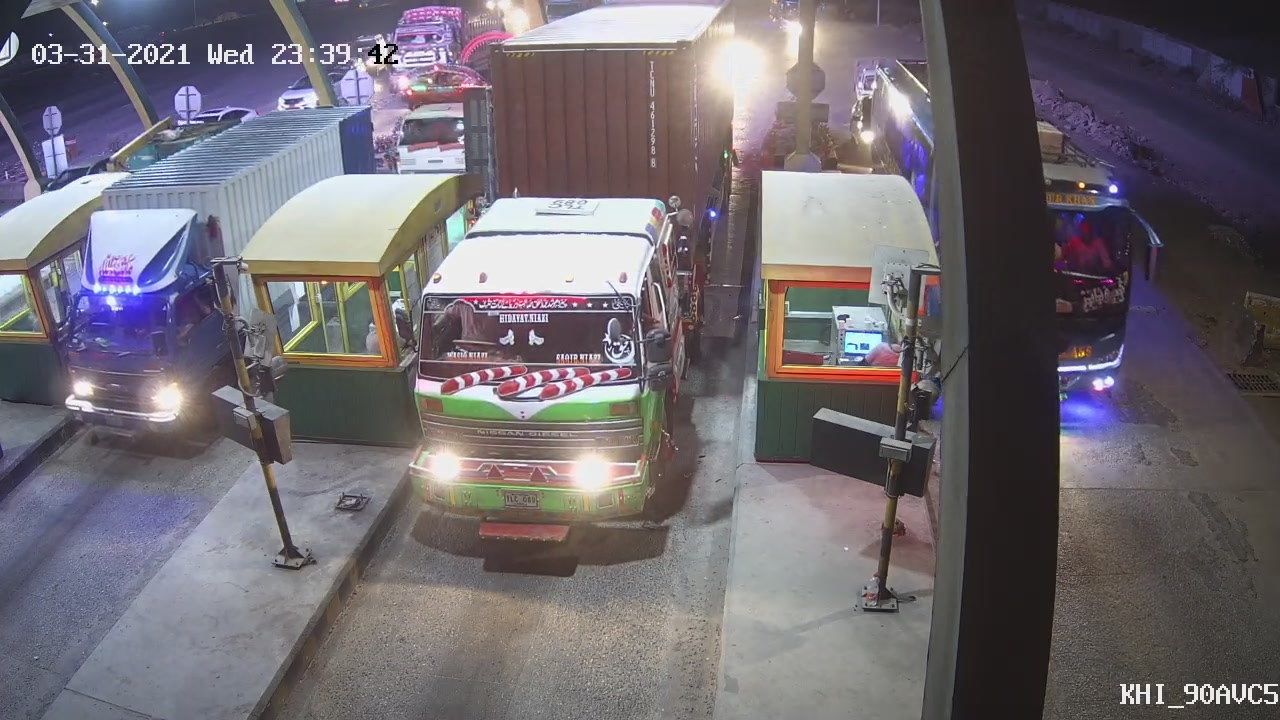F6: (392, 2, 755, 549)
